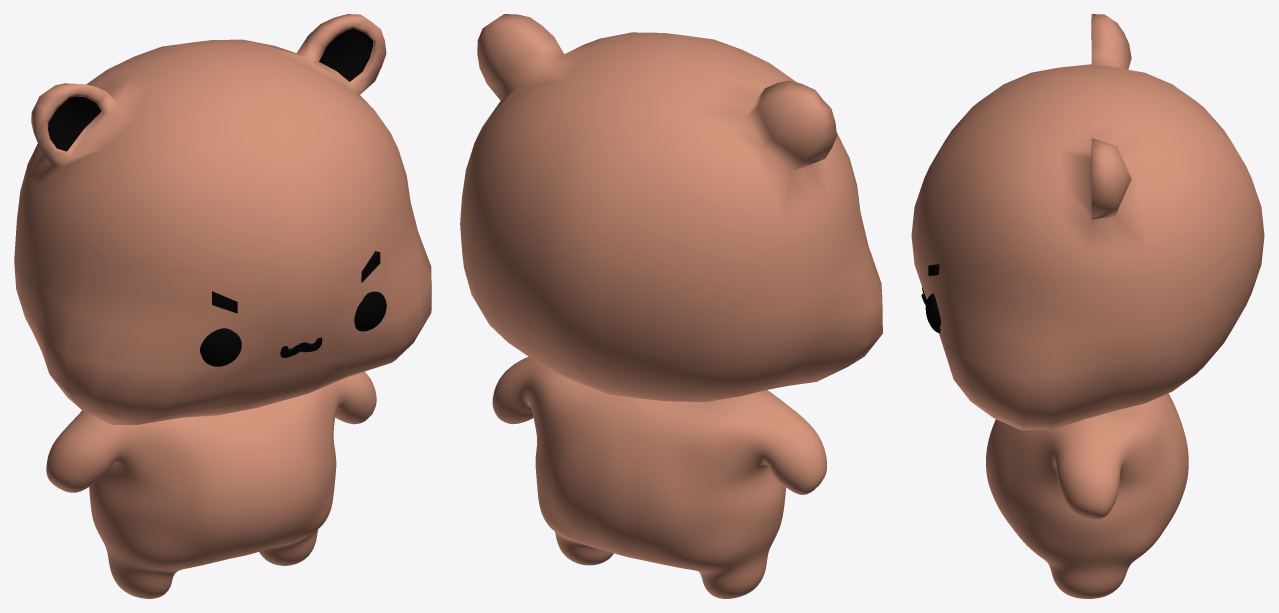
The model's file is FatBearMesh.fbx.
The picture shows the model from 3 angles, left to right: view 1: azimuth 30°, elevation 25°; view 2: azimuth 150°, elevation 25°; view 3: azimuth 270°, elevation 25°; orthographic projection. The views are drawn at different scales.
Visible parts, largest first — view 1: Roundcube.008; view 2: Roundcube.008; view 3: Roundcube.008.
Boxes of the visible parts, x1,y1,x2,y2 form: Roundcube.008: (14,14,431,598); Roundcube.008: (460,14,882,598); Roundcube.008: (911,14,1264,598).
Size of the model in its own units: 220 by 296 by 196.
